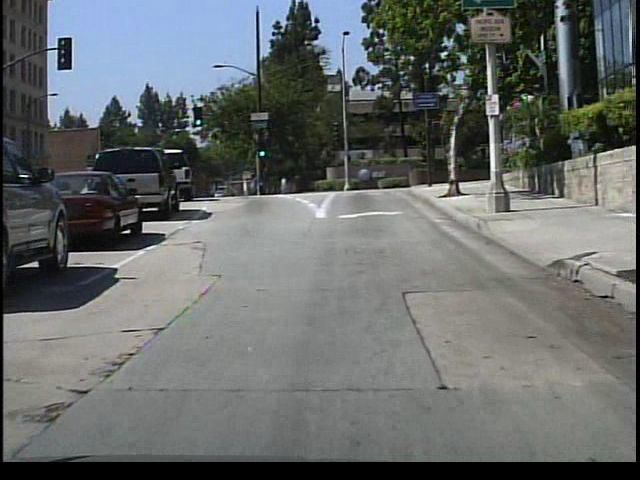person: (246, 168, 263, 198), (277, 171, 292, 196)
